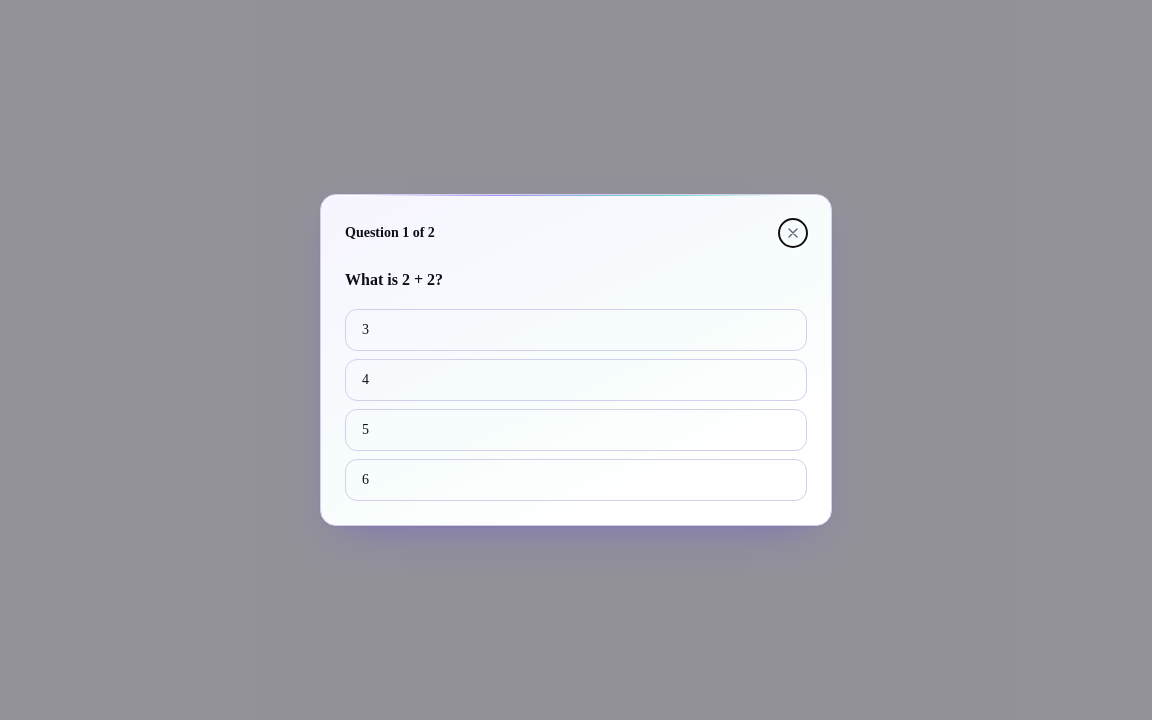
Test case: QuizSession › reports a perfect score and confirms it was saved
Click the button "4" at [366, 380], box top-left (345, 359), bottom-right (807, 401)
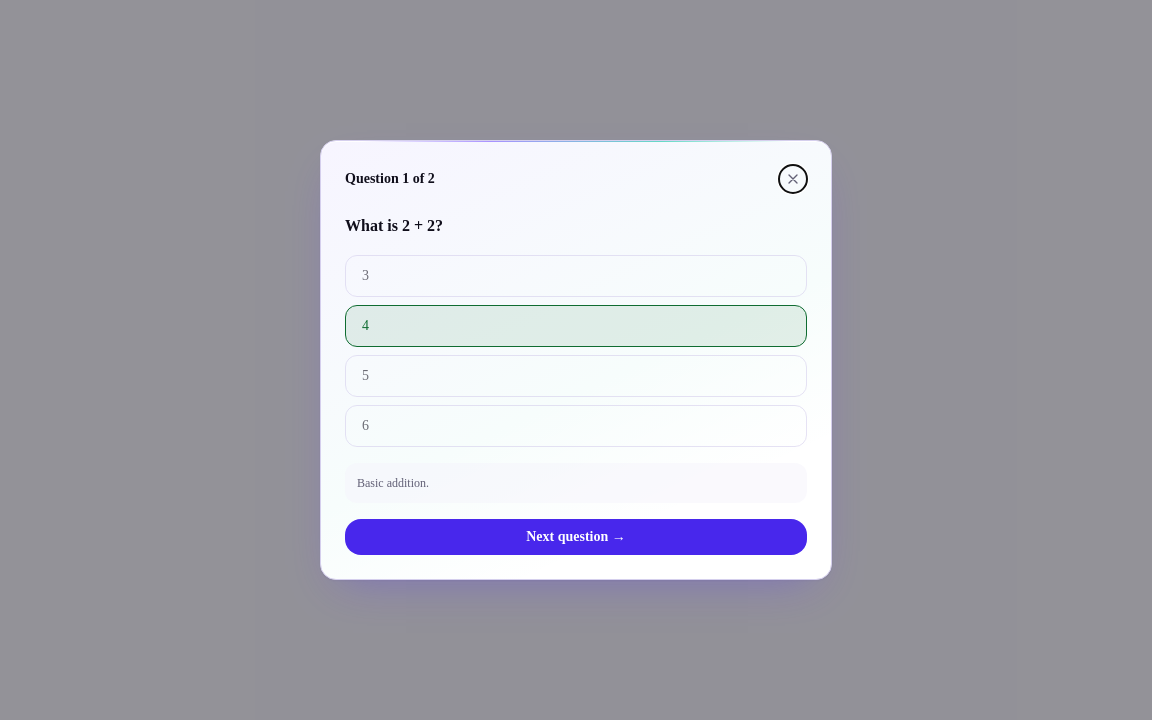
Click the button "Next question →" at [576, 537], box top-left (345, 519), bottom-right (807, 555)
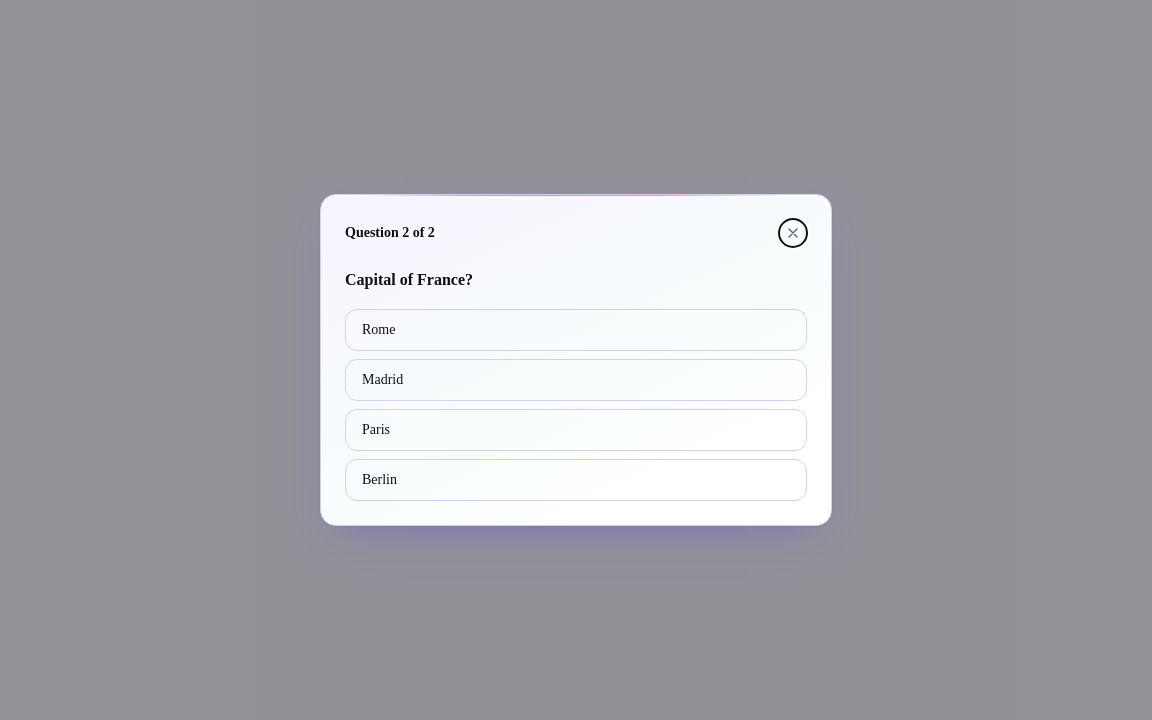
Click the button "Paris" at [376, 430], box top-left (345, 409), bottom-right (807, 451)
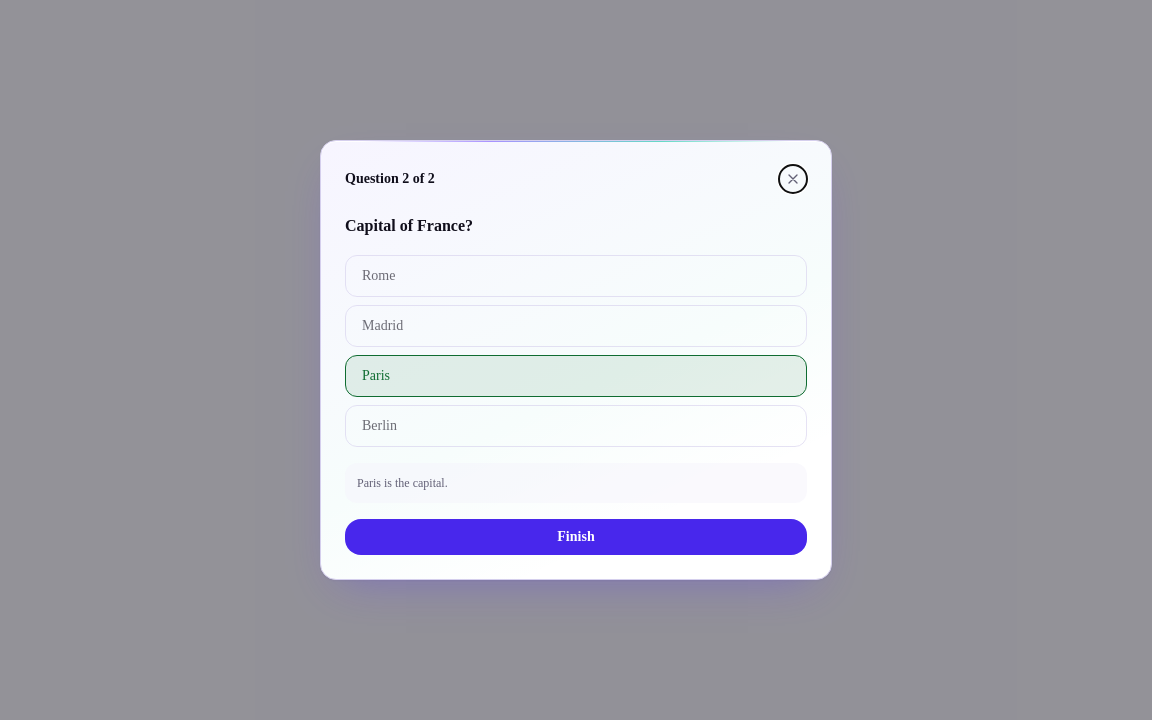
Click the button "Finish" at [576, 537], box top-left (345, 519), bottom-right (807, 555)
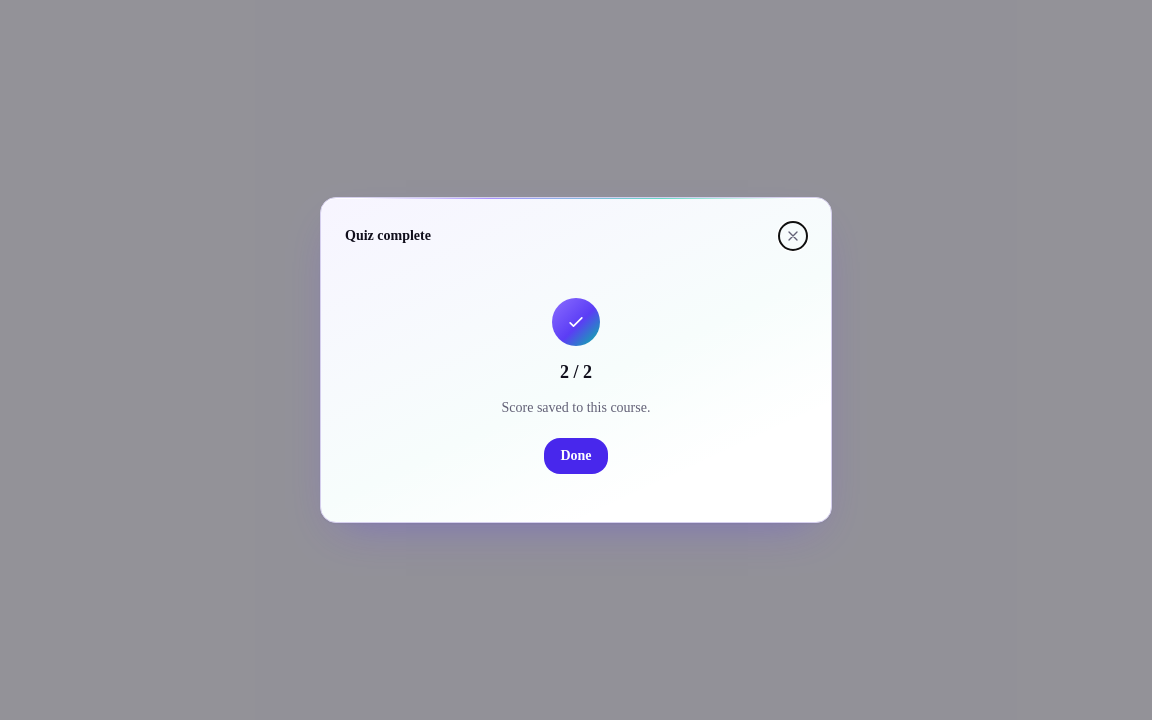
Now the heading "Quiz complete" is shown, box top-left (345, 226), bottom-right (431, 246)
Now the text "2 / 2" is shown, box top-left (560, 358), bottom-right (592, 386)
Now the text "Score saved to this course." is shown, box top-left (502, 398), bottom-right (650, 418)
